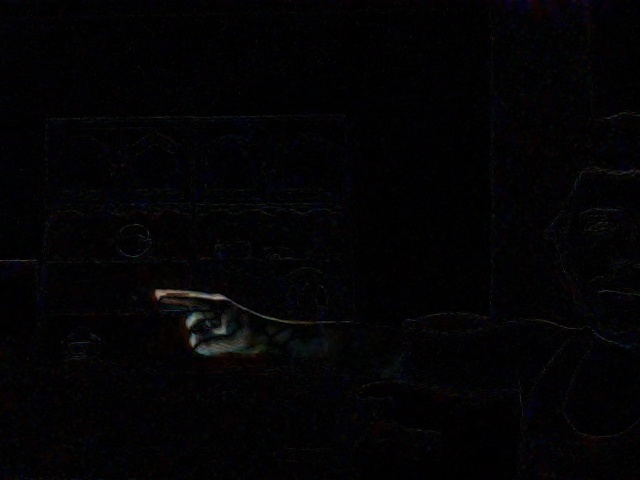hand_po: (144, 276, 261, 362)
